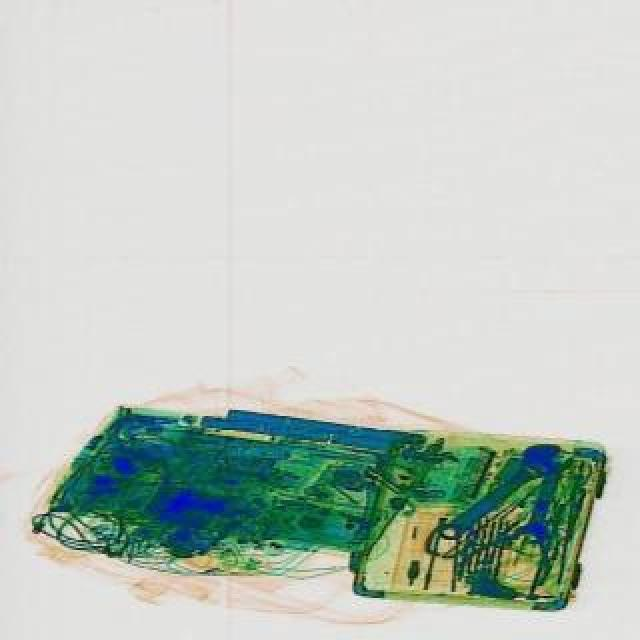scissors: (424, 430, 572, 550), (508, 448, 574, 550)
